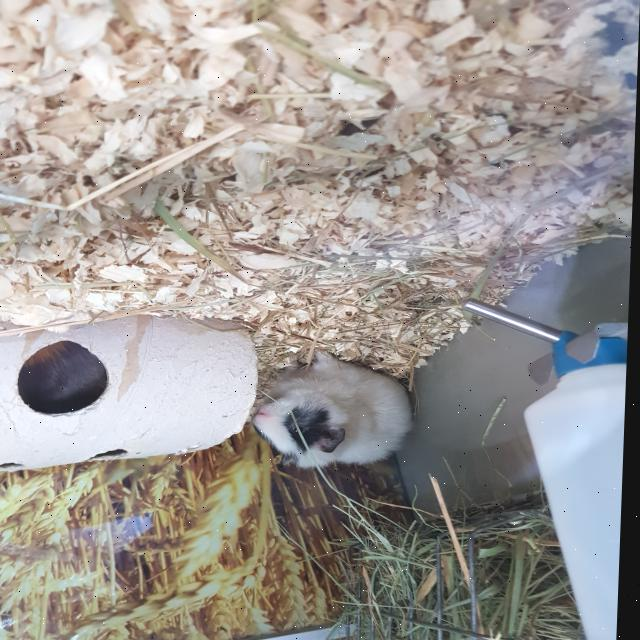guinea pig: (249, 347, 423, 472)
